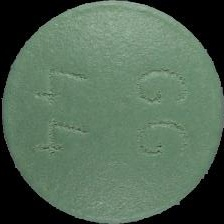10544-109: (0, 0, 224, 224)
